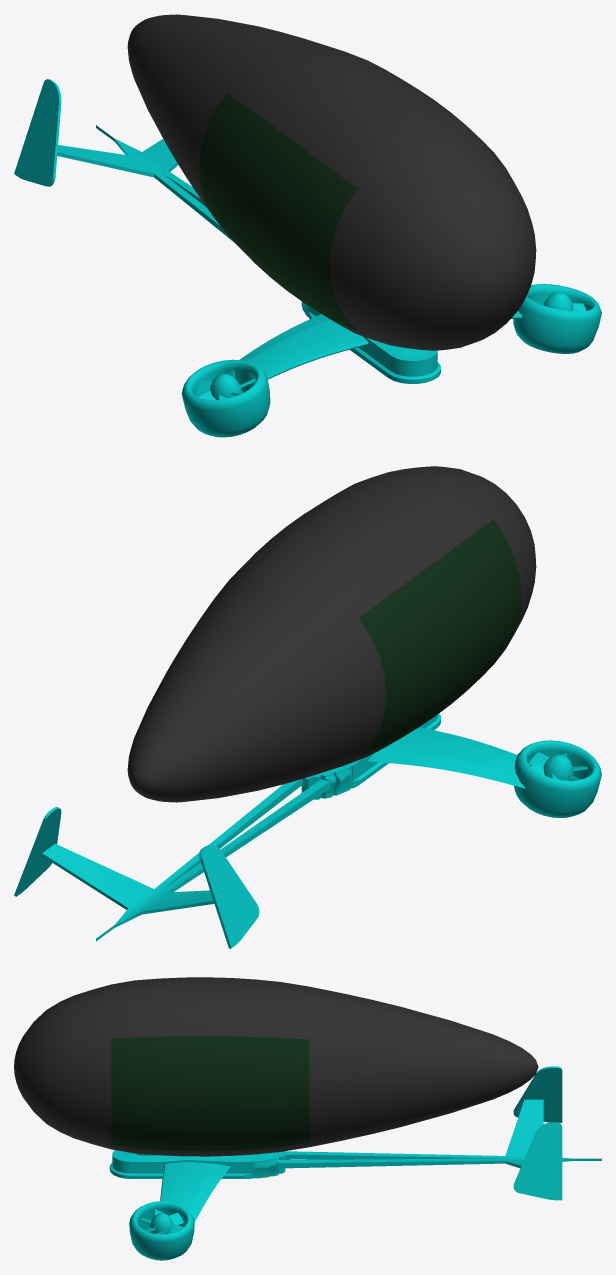
Rendered from blimp.fbx.
3 renders of one model, top to bottom at view 1: azimuth 30°, elevation 25°; view 2: azimuth 150°, elevation 25°; view 3: azimuth 270°, elevation 25°, orthographic. The views are drawn at different scales.
Parts seen in each view (by area): view 1: ad_blimp; view 2: ad_blimp; view 3: ad_blimp.
Part boxes in pixels (left/top/right/bottom): ad_blimp: left=14, top=14, right=601, bottom=437; ad_blimp: left=14, top=466, right=601, bottom=948; ad_blimp: left=14, top=977, right=601, bottom=1260.
Bounding box in the file's own units: 0.2336 × 0.3915 × 0.1522.
